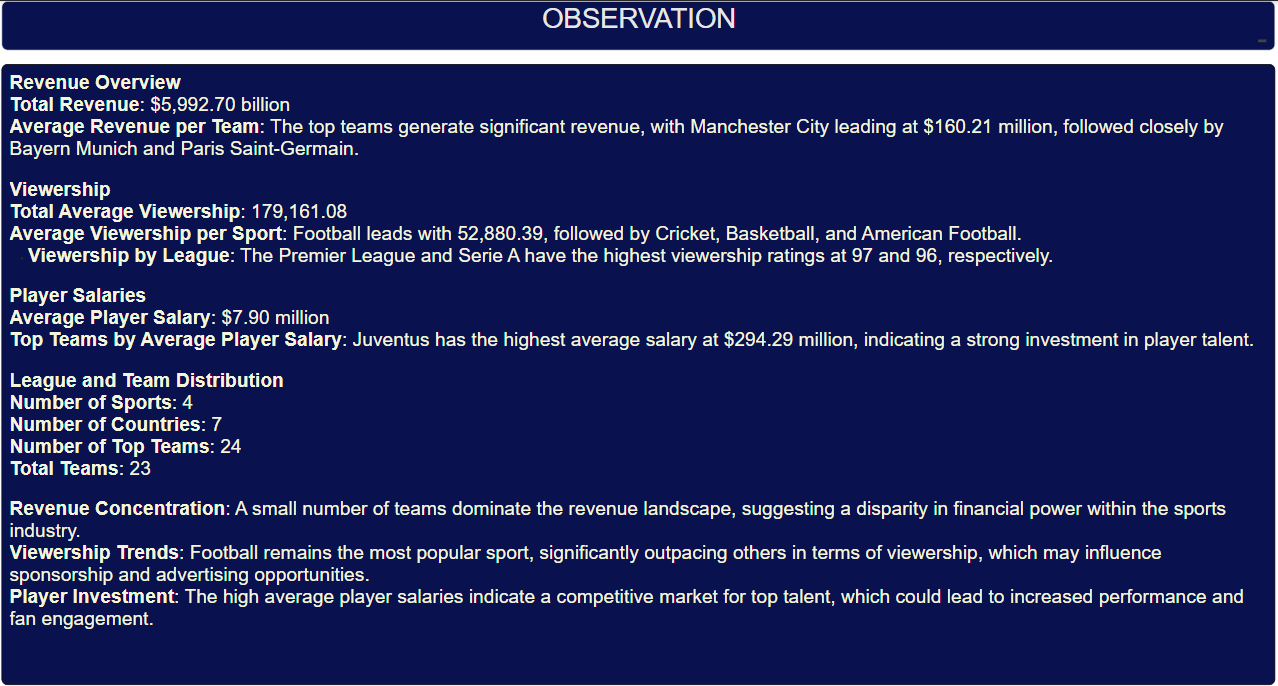

Layout of this report page (visuals, bound fields, positions):
{"tool":"powerbi","page":{"name":"Page 2","canvas":[1280,720],"ordinal":1},"visuals":[{"type":"textbox","title":"OBSERVATION","box":[10.2,0,1235.8,48],"z":0},{"type":"textbox","box":[10.2,61.1,1235.8,602.6],"z":1000}]}

Visuals, with their boxes on the page's 1280x720 design canvas (x1, y1, x2, y2). These are canvas units, not pixel positions in the 1278x686 screenshot, which may show the page scaled, cropped or inside an application window:
"OBSERVATION" textbox: [left=10, top=0, right=1246, bottom=48]
textbox: [left=10, top=61, right=1246, bottom=664]
